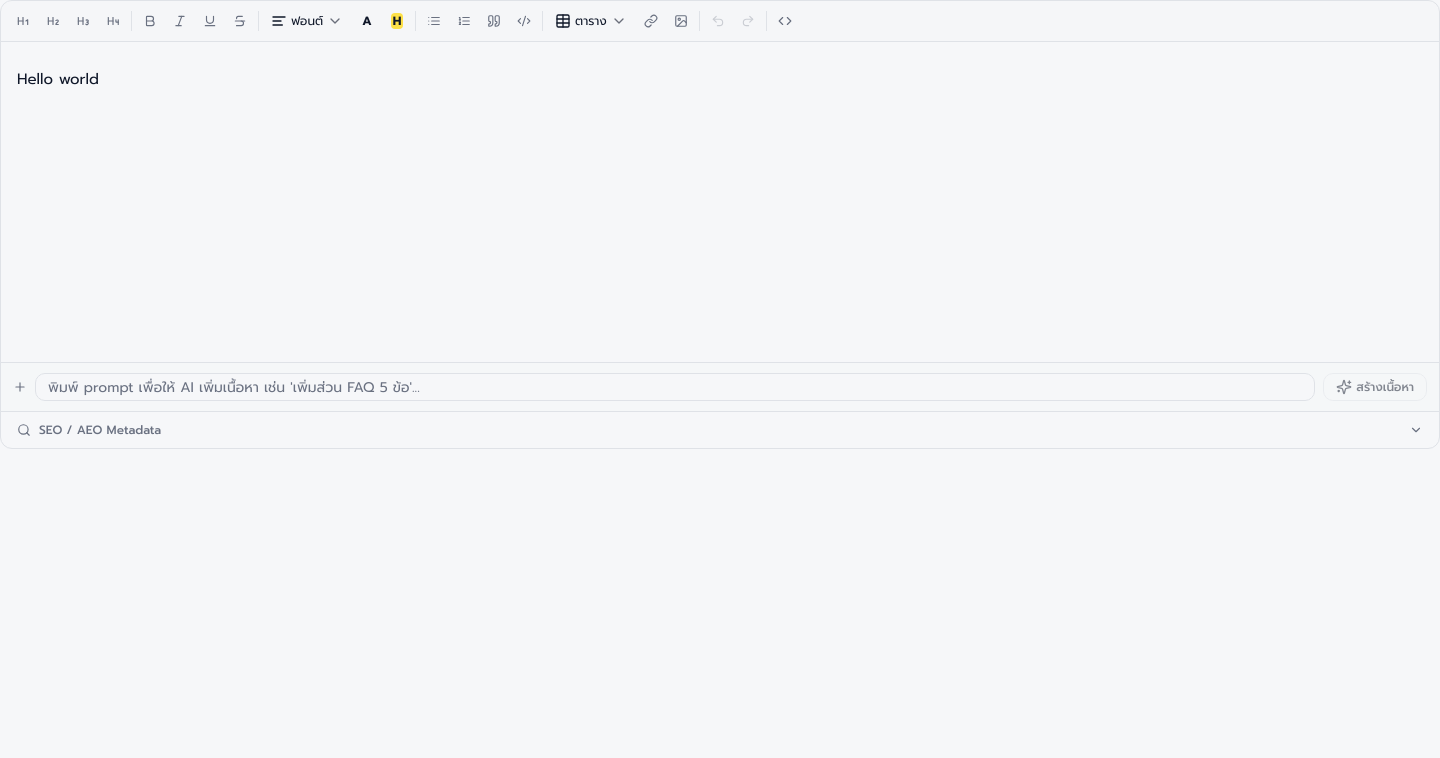
ArticleEditor › uses a safe fallback for an unknown SEO rule level
This screenshot has width=1440, height=758.
Click the button "SEO / AEO Metadata".
click(100, 430)  # box [1, 412, 1439, 448]
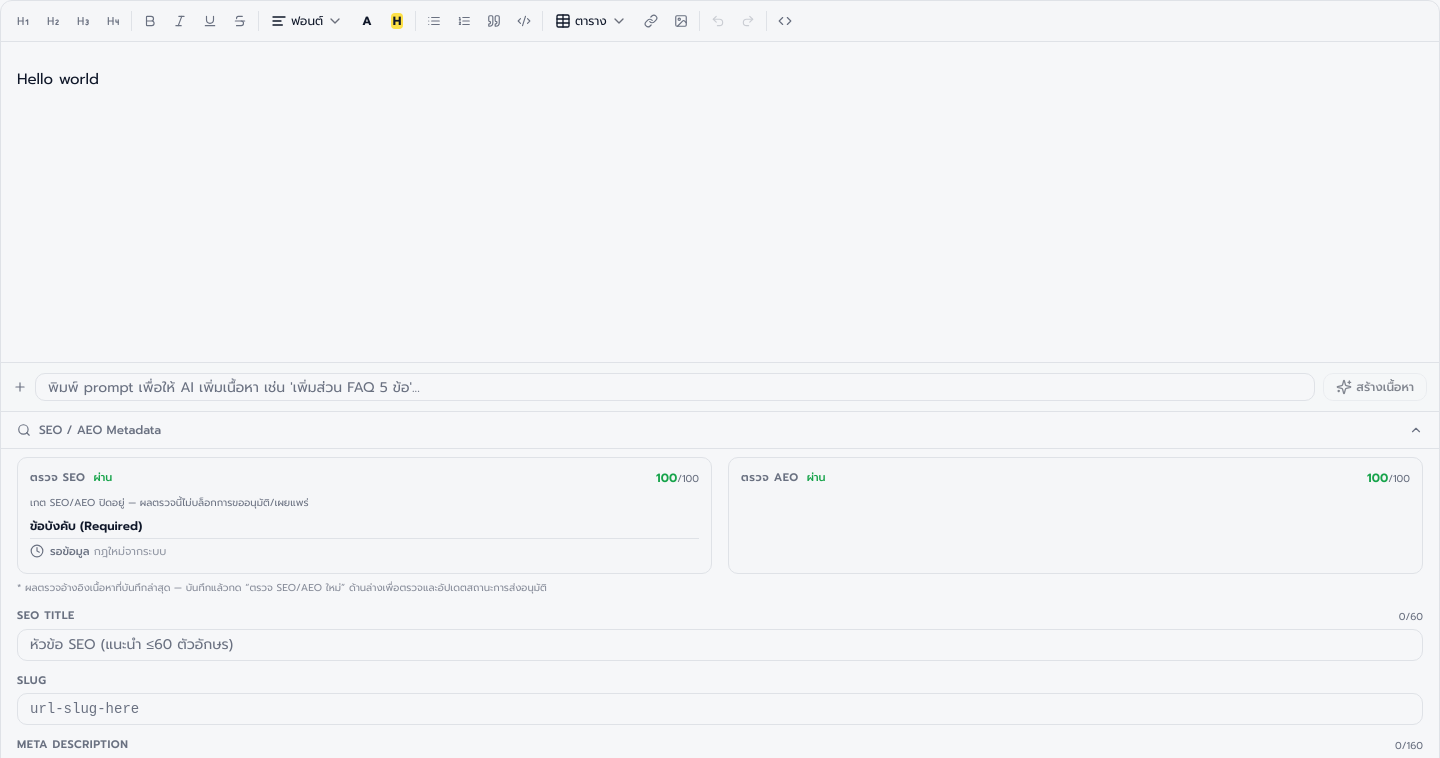
Now the text "กฎใหม่จากระบบ" is shown, box [94, 543, 166, 560]
